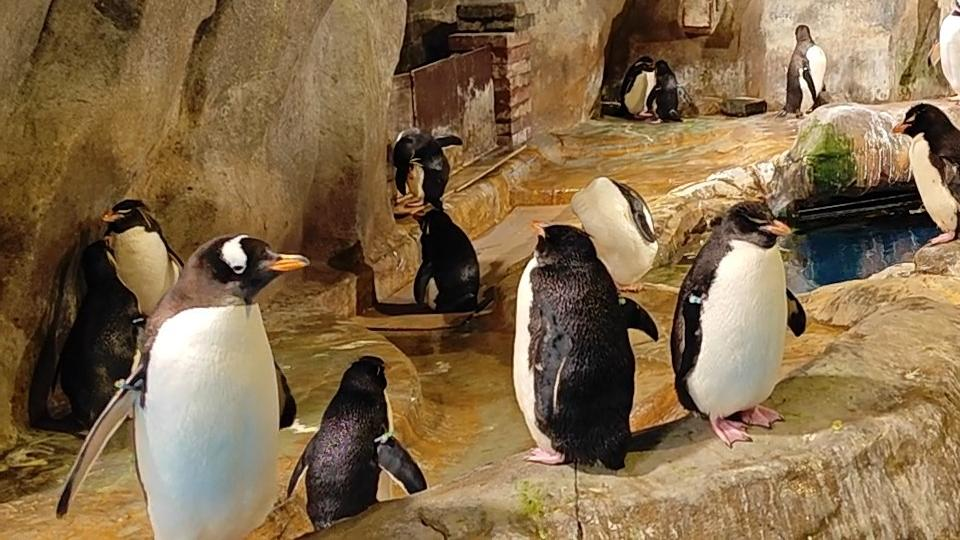Southern Rockhopper Penguin: (493, 213, 669, 474), (665, 197, 813, 460), (880, 101, 960, 249), (90, 187, 185, 309), (399, 201, 490, 317), (384, 121, 467, 206), (639, 56, 690, 125), (616, 54, 656, 117)
